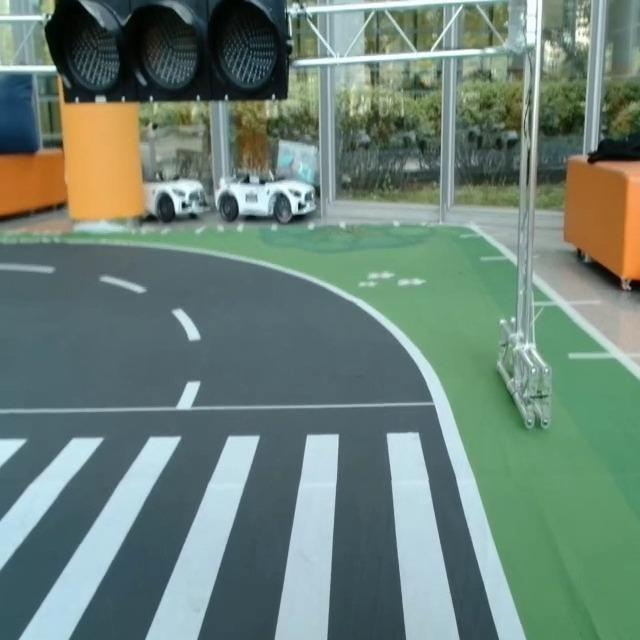traffic-light: (44, 0, 295, 102)
